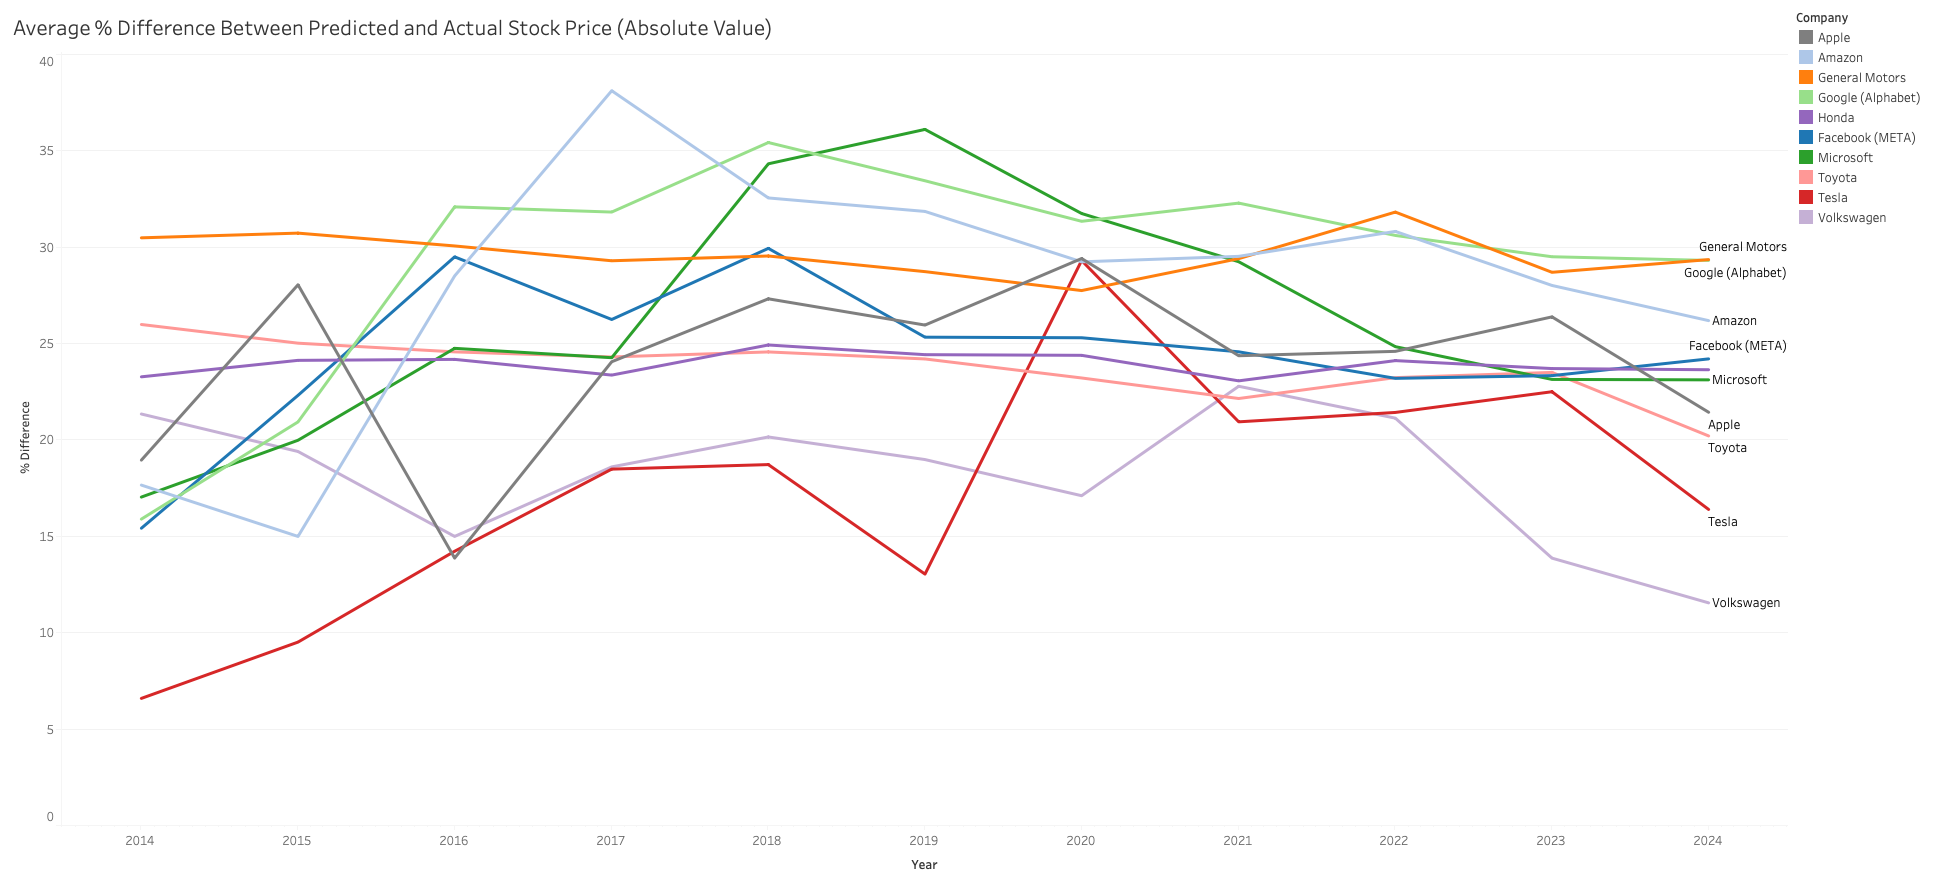

Layout of this report page (visuals, bound fields, positions):
{"tool":"tableau","page":{"name":"Dashboard 2","canvas":[1000,1000],"units":"permille","ordinal":1},"visuals":[{"type":"worksheet","title":"Combined Line Chart","mark":"Line","cols":["date"],"box":[4.1,8.9,910.3,982.1]},{"type":"legend","title":"Combined Line Chart","param":"[federated.1155w741qntn03118m2px1so6riq].[:Measure Names]","box":[914.4,8.9,81.5,252.5]}]}

Visuals, with their boxes on the dashboard's canvas, which has no fixed pixel size, in thousandths of its width and height (x1, y1, x2, y2). These are canvas units, not pixel positions in the 1951x886 screenshot, which may show the page scaled, cropped or inside an application window:
"Combined Line Chart" worksheet (Line marks): bbox(4, 9, 914, 991)
"Combined Line Chart" legend: bbox(914, 9, 996, 261)
